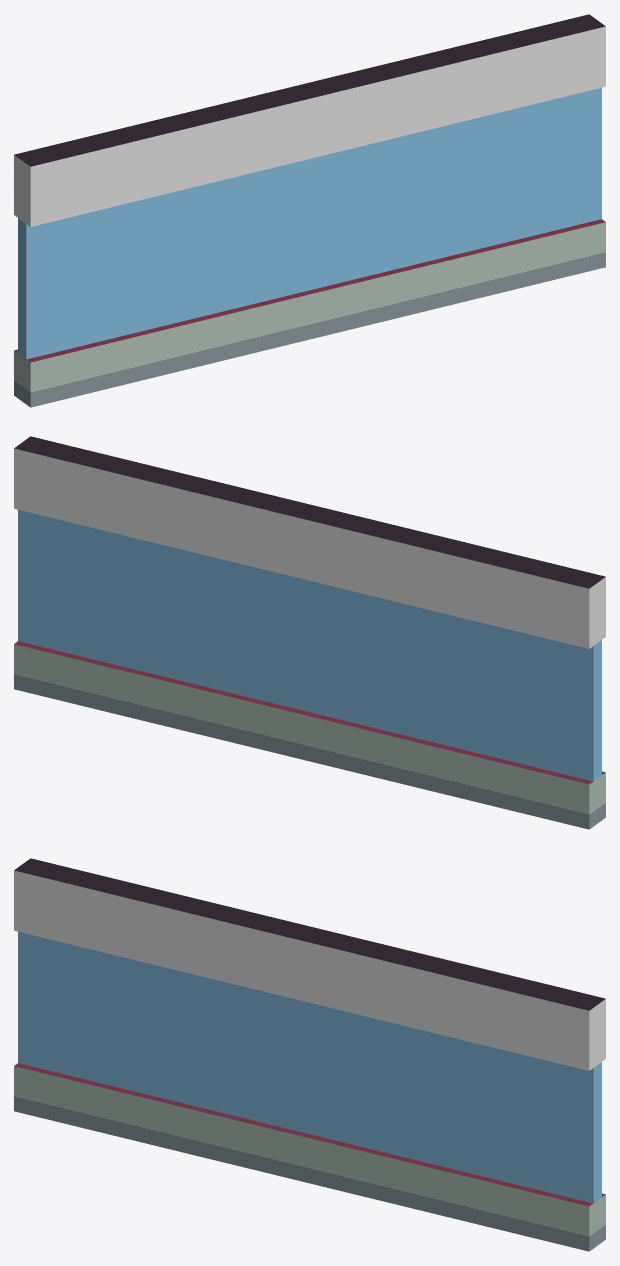
The model's file is Modelo_ParedeJanela2.fbx.
3 renders of one model, top to bottom at view 1: azimuth 30°, elevation 25°; view 2: azimuth 150°, elevation 25°; view 3: azimuth 330°, elevation 25°, orthographic.
Visible parts, largest first — view 1: cube.006, cube.008, cube.007; view 2: cube.006, cube.008, cube.007; view 3: cube.006, cube.008, cube.007.
Boxes of the visible parts, x1,y1,x2,y2 form: cube.006: [18, 87, 601, 359]; cube.008: [14, 14, 605, 226]; cube.007: [14, 219, 605, 407]; cube.006: [18, 509, 601, 781]; cube.008: [14, 436, 605, 648]; cube.007: [14, 641, 605, 829]; cube.006: [18, 931, 601, 1203]; cube.008: [14, 858, 605, 1070]; cube.007: [14, 1063, 605, 1251].
Size of the model in its own units: 400 by 160 by 20.
2 materials, 2 textured.
